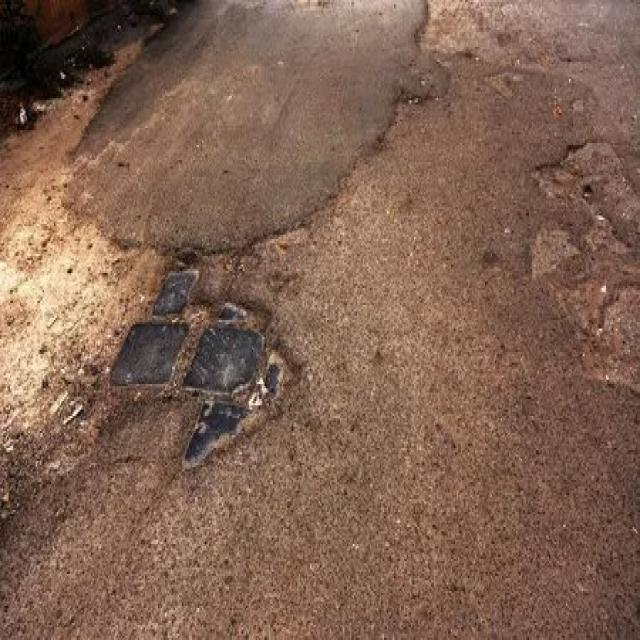Pothole: (104, 245, 300, 474), (524, 136, 638, 392)
